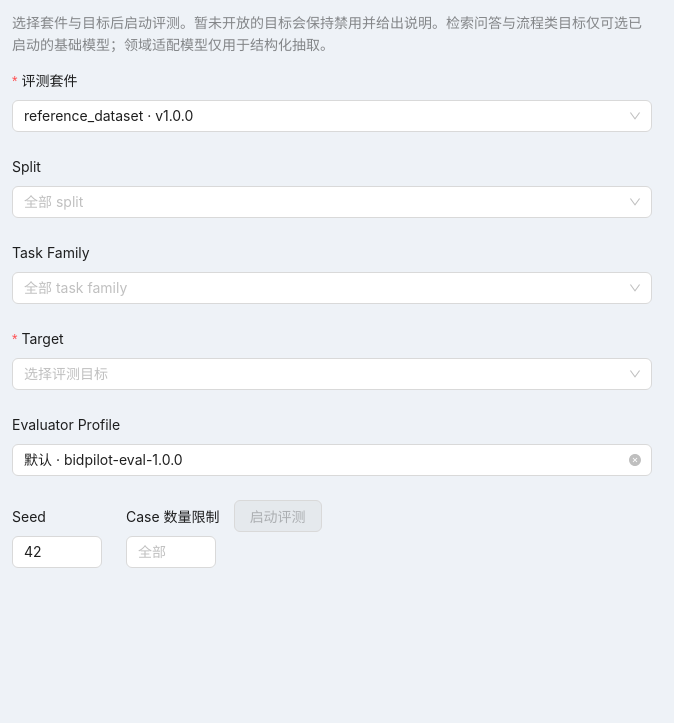
NewEvaluationForm model select › shows Course LoRA for extraction and disables when unserved
The width and height of the screenshot is (674, 723).
Click the dropdown labelled "选择评测目标".
click(66, 374)  # box [24,365,108,382]
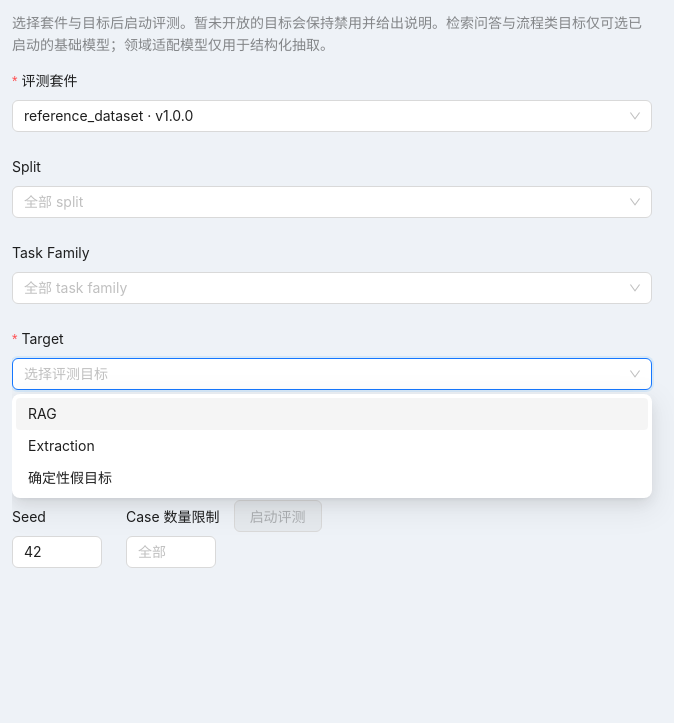
Click the text "Extraction".
click(61, 446)  # box [28,437,95,454]
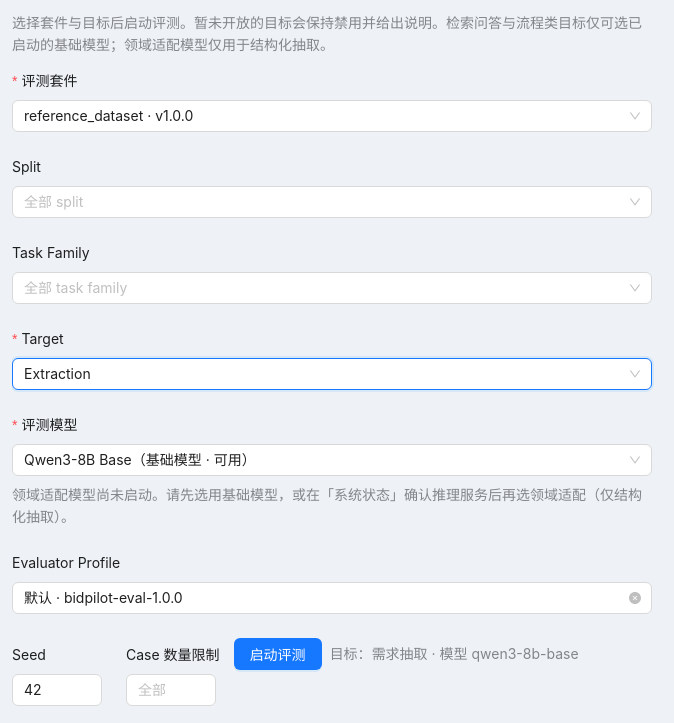
Result: the element with test id "eval-model-select" is shown at [12,444,652,476]
Result: the text "领域适配模型尚未启动。请先选用基础模型，或在「系统状态」确认推理服务后再选领域适配（仅结构化抽取）。" is shown at [12,484,652,528]
